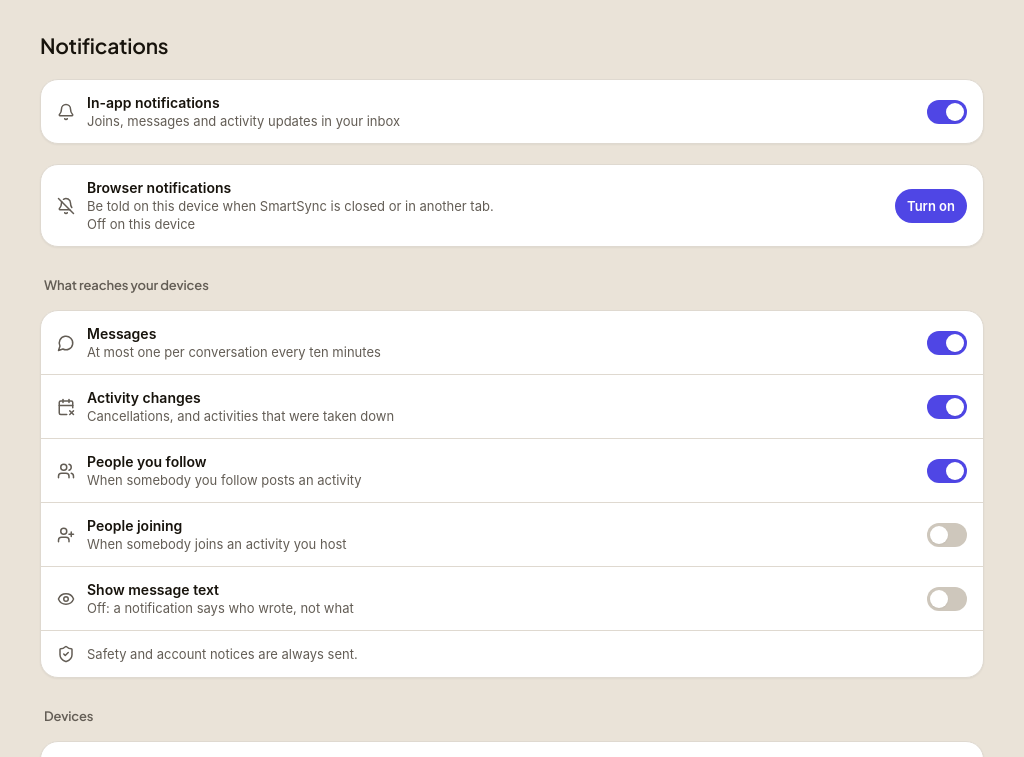
Test: this browser › off by default, with Turn on; on after the permission is granted and the device registered
Check: the text "Off on this device" is shown, box left=87, top=216, right=195, bottom=232
Click the button "Turn on": (931, 206) left=895, top=189, right=967, bottom=223
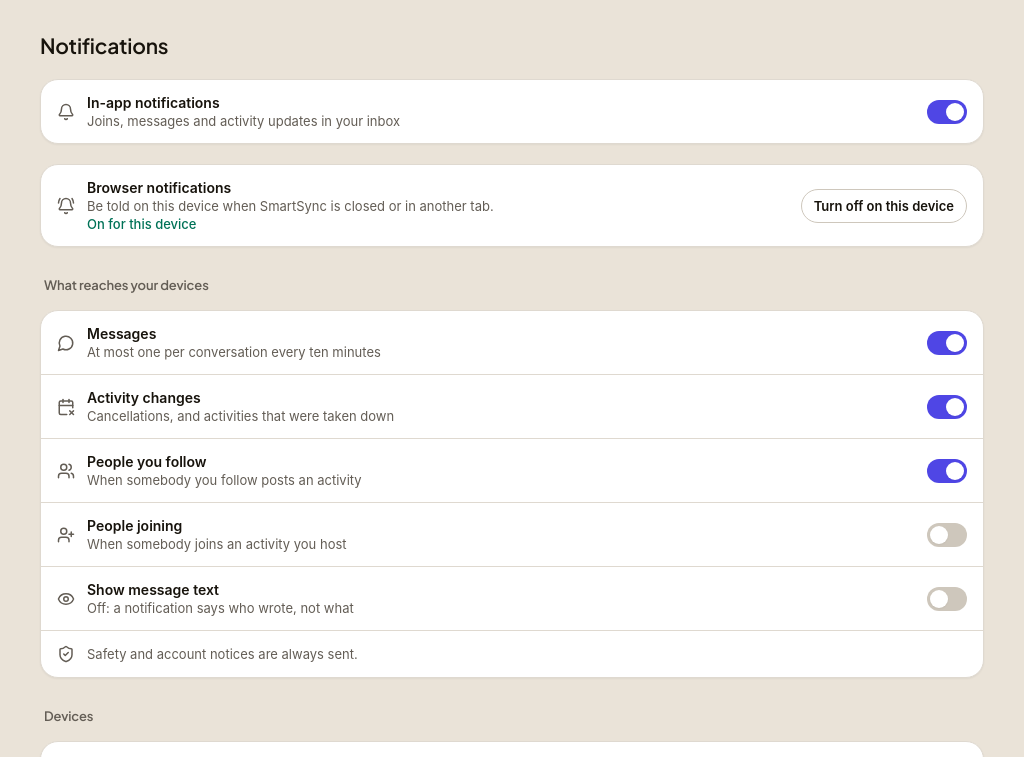
Check: the text "On for this device" is shown, box left=87, top=216, right=196, bottom=232
Check: the button "Turn off on this device" is shown, box left=801, top=189, right=967, bottom=223
